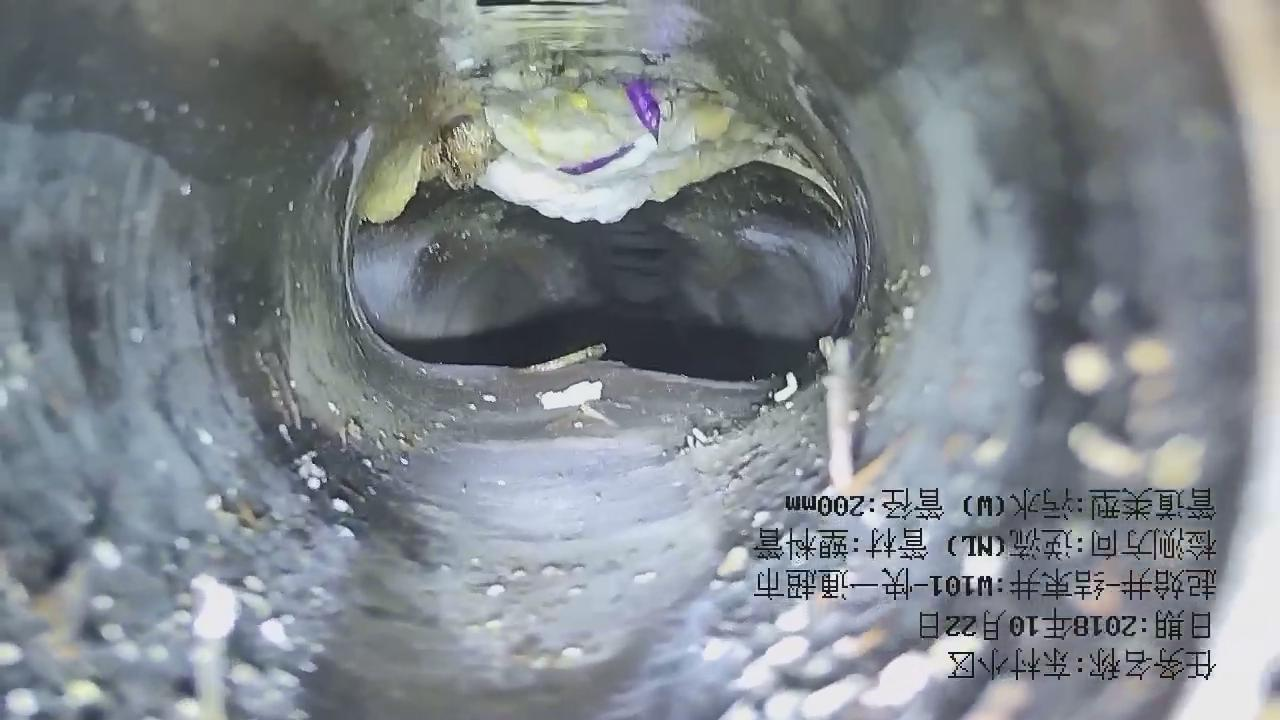BX: (311, 227, 838, 471)
CJ: (360, 57, 839, 223)
